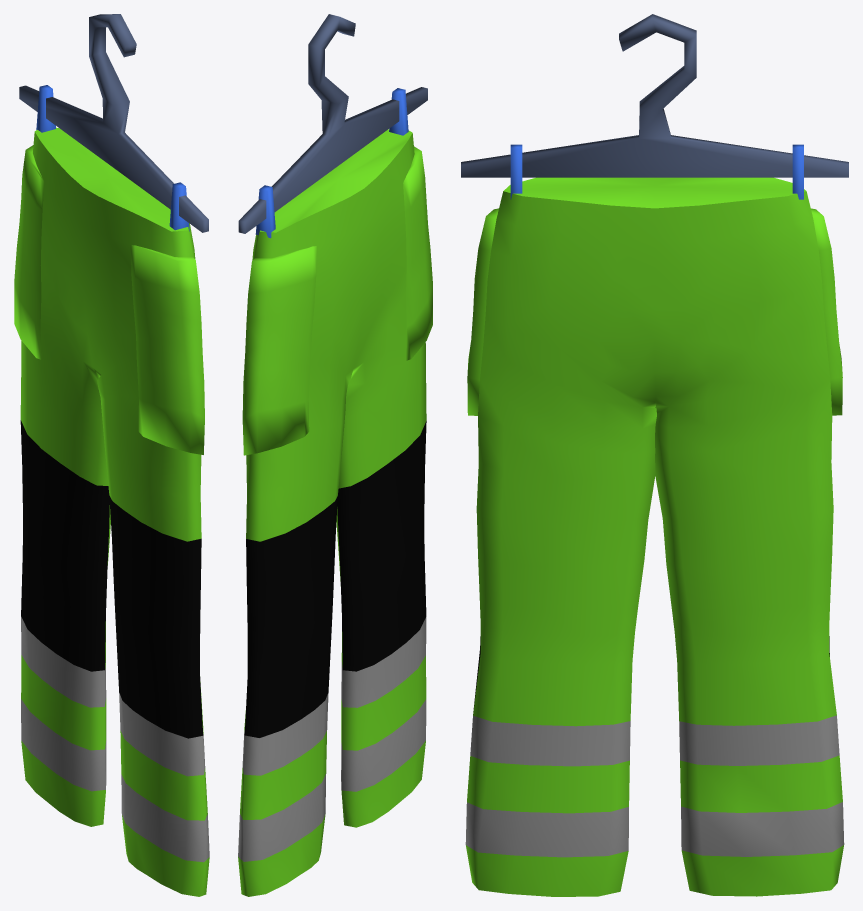
Rendered from special_pants3.fbx.
3 renders of one model, left to right at view 1: azimuth 30°, elevation 25°; view 2: azimuth 150°, elevation 25°; view 3: azimuth 270°, elevation 25°, orthographic. The views are drawn at different scales.
Visible parts, largest first — view 1: pants1.002; view 2: pants1.002; view 3: pants1.002.
Boxes of the visible parts, x1,y1,x2,y2 form: pants1.002: (14,14,209,896); pants1.002: (238,14,432,896); pants1.002: (461,14,848,896).
Bounding box in the file's own units: 0.1833 × 2.4 × 0.9653.
